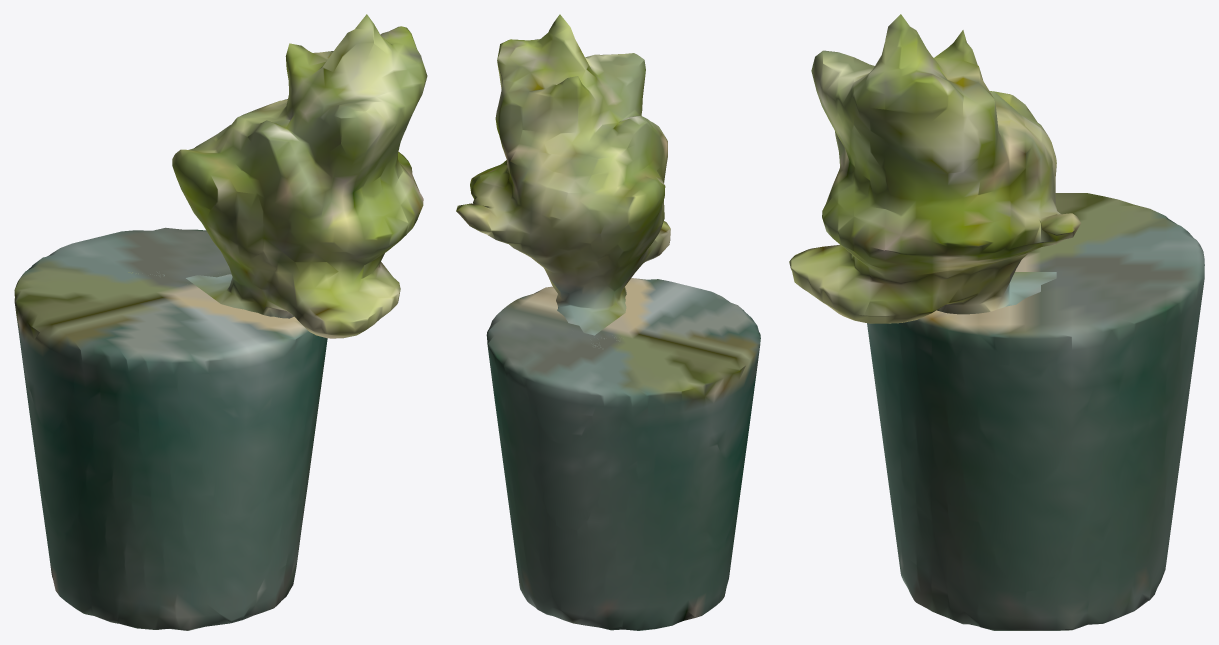
The model's file is prop_moving.glb.
The picture shows the model from 3 angles, left to right: view 1: azimuth 30°, elevation 25°; view 2: azimuth 150°, elevation 25°; view 3: azimuth 270°, elevation 25°; orthographic projection. The views are drawn at different scales.
Visible parts, largest first — view 1: body, leaf; view 2: body, leaf; view 3: body, leaf.
Boxes of the visible parts, box(x1,y1,x2,y2) form: body: box(14, 227, 327, 630); leaf: box(128, 14, 427, 338); body: box(486, 278, 760, 630); leaf: box(456, 14, 670, 347); body: box(867, 193, 1204, 630); leaf: box(789, 14, 1081, 323).
Bounding box in the file's own units: 0.1186 × 0.1957 × 0.1158.
